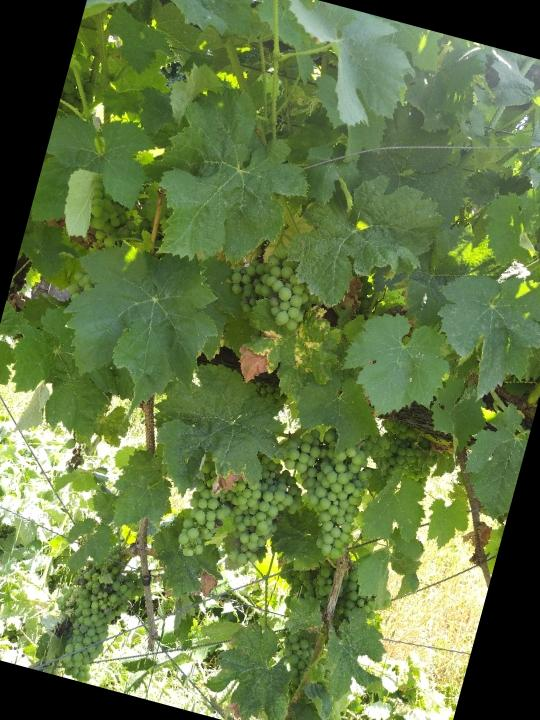grape: (259, 412, 394, 567), (49, 550, 154, 693), (208, 444, 312, 577), (220, 231, 332, 338), (172, 454, 245, 567)
